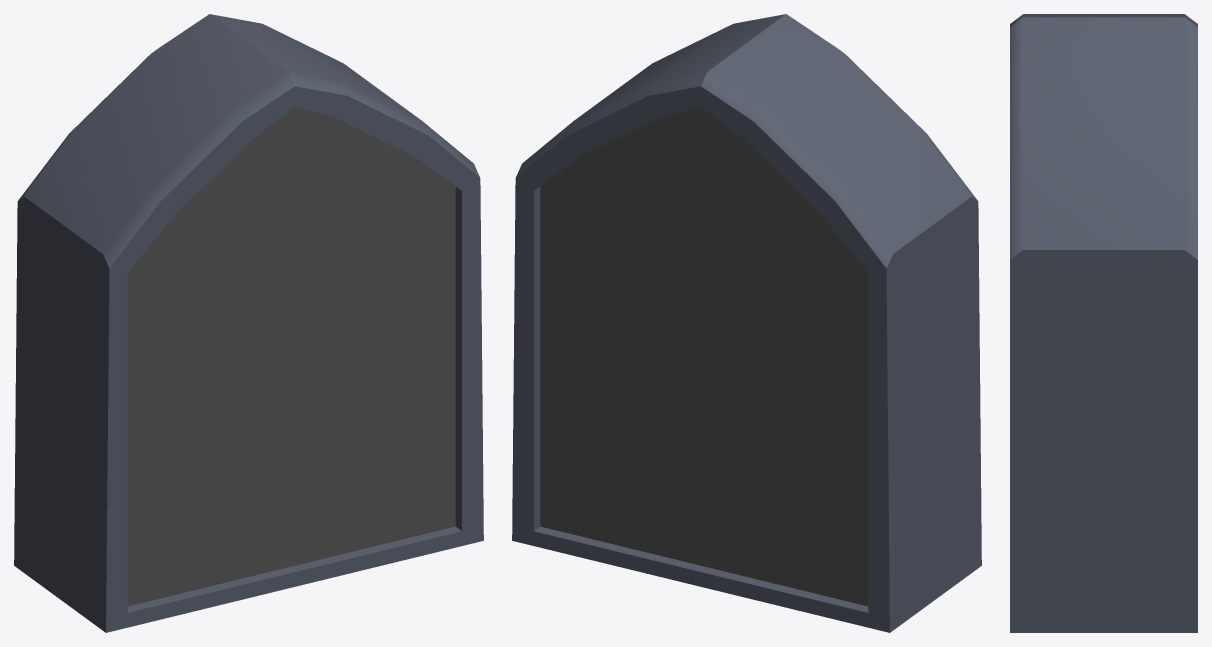
File: Mesh_gravestone_2.fbx
3 renders of one model, left to right at view 1: azimuth 30°, elevation 25°; view 2: azimuth 150°, elevation 25°; view 3: azimuth 270°, elevation 25°, orthographic. The views are drawn at different scales.
Visible parts, largest first — view 1: gravestone_2; view 2: gravestone_2; view 3: gravestone_2.
Part boxes in pixels (<box>): gravestone_2: <box>14,14,483,632</box>; gravestone_2: <box>512,14,981,632</box>; gravestone_2: <box>1010,14,1197,632</box>.
Bounding box in the file's own units: 121 × 156 × 50.9.
1 material, 1 textured.
